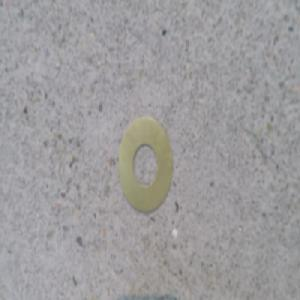Washer: (116, 102, 174, 204)
